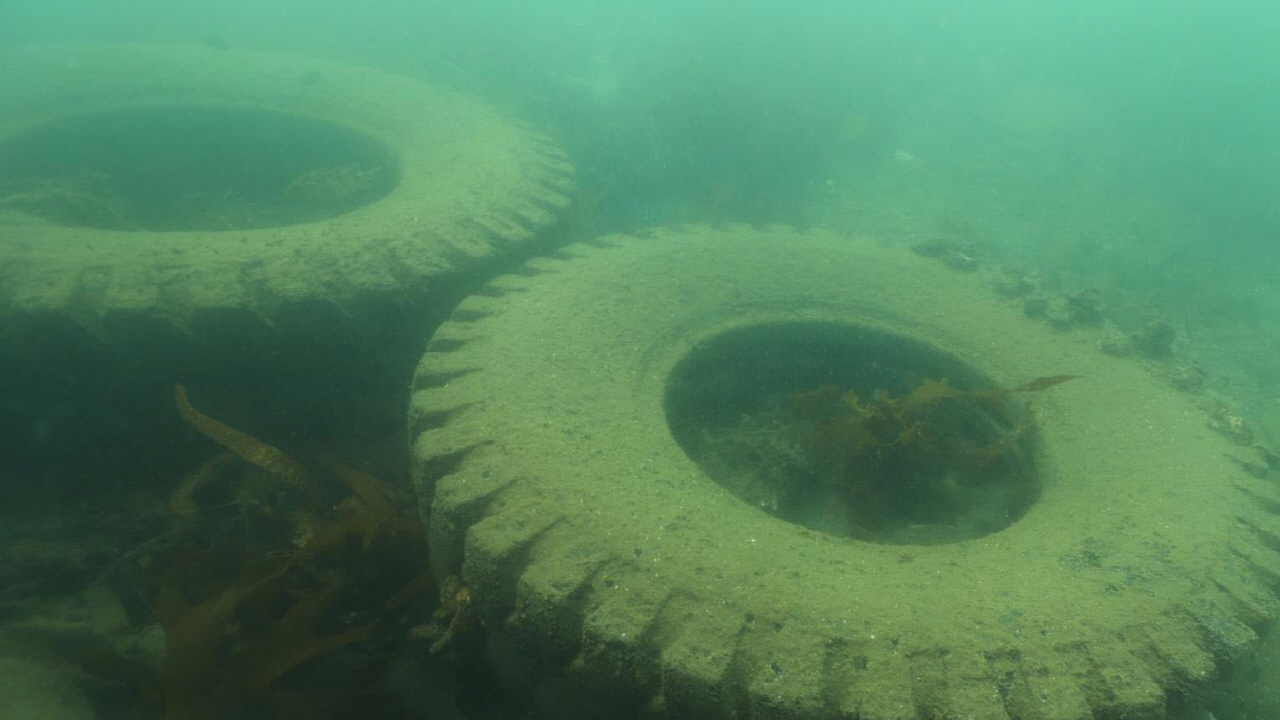tire: (406, 218, 1280, 720), (0, 34, 572, 414)
